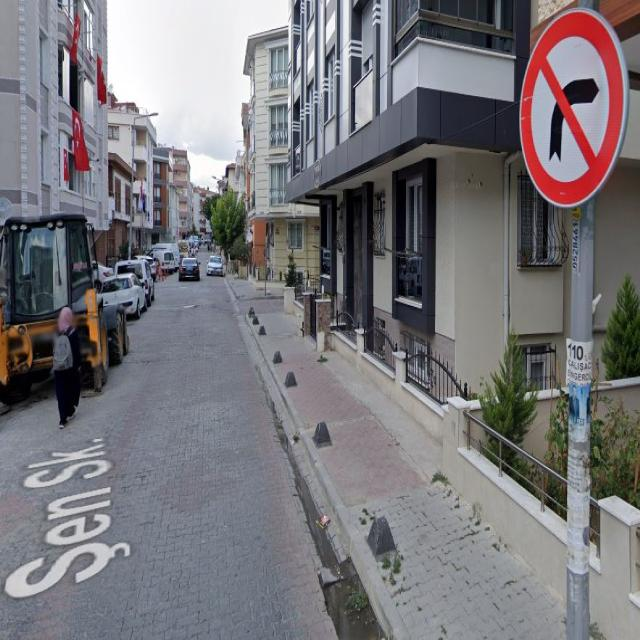sagadonulmez: (519, 9, 625, 203)
